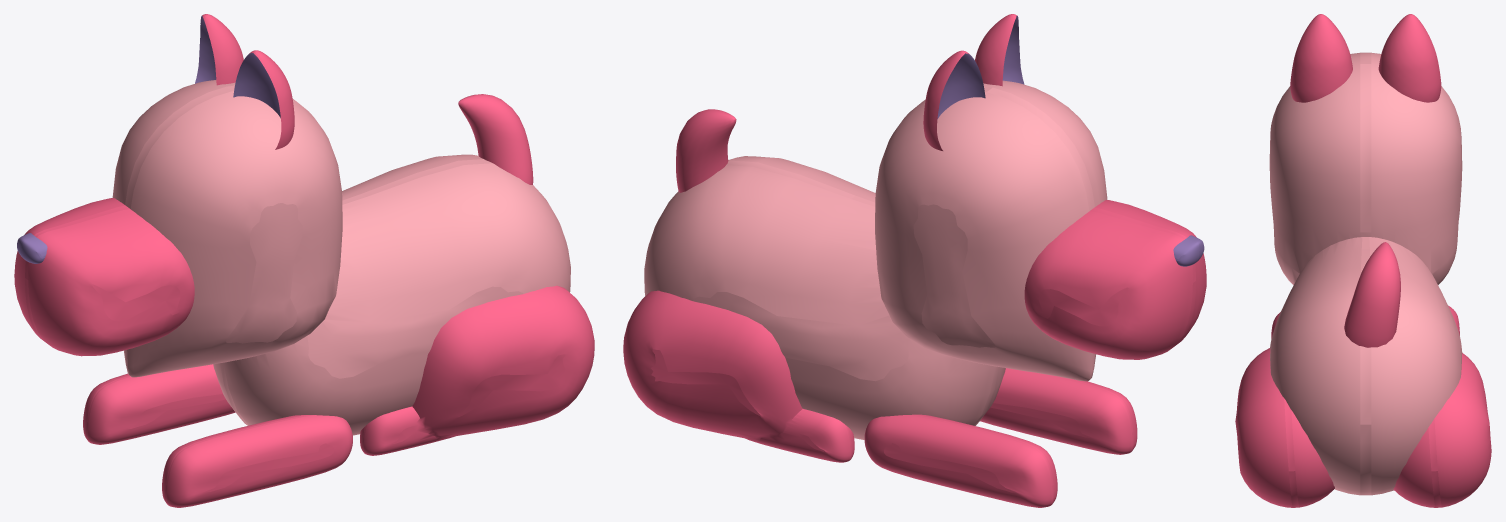
File: dog.gltf
3 views of the same model, side by side, from view 1: azimuth 30°, elevation 25°; view 2: azimuth 150°, elevation 25°; view 3: azimuth 270°, elevation 25° (orthographic). The views are drawn at different scales.
Visible parts, largest first — view 1: SoftLight, SoftDark, Tail, Smooth; view 2: SoftLight, SoftDark, Tail, Smooth; view 3: SoftLight, SoftDark, Tail.
Part boxes in pixels (left/top/right/bottom): SoftLight: left=112, top=80, right=570, bottom=435; SoftDark: left=14, top=14, right=594, bottom=507; Tail: left=458, top=94, right=533, bottom=184; Smooth: left=17, top=16, right=280, bottom=263; SoftLight: left=644, top=80, right=1107, bottom=439; SoftDark: left=623, top=14, right=1206, bottom=507; Tail: left=676, top=109, right=736, bottom=192; Smooth: left=937, top=16, right=1204, bottom=266; SoftLight: left=1269, top=52, right=1462, bottom=495; SoftDark: left=1235, top=14, right=1491, bottom=507; Tail: left=1344, top=242, right=1400, bottom=347.
Bounding box in the file's own units: 201 × 152 × 92.15.
